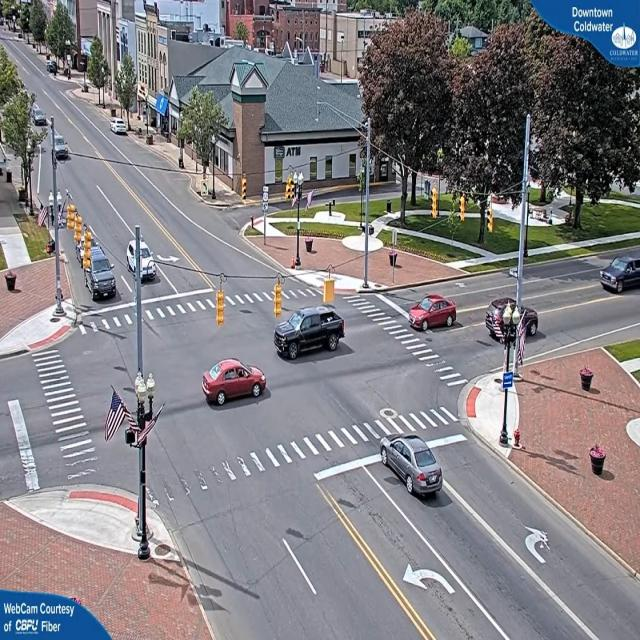car: (275, 305, 346, 359), (382, 434, 442, 497), (204, 356, 268, 408), (82, 244, 117, 299), (407, 295, 457, 333), (600, 253, 640, 295)
